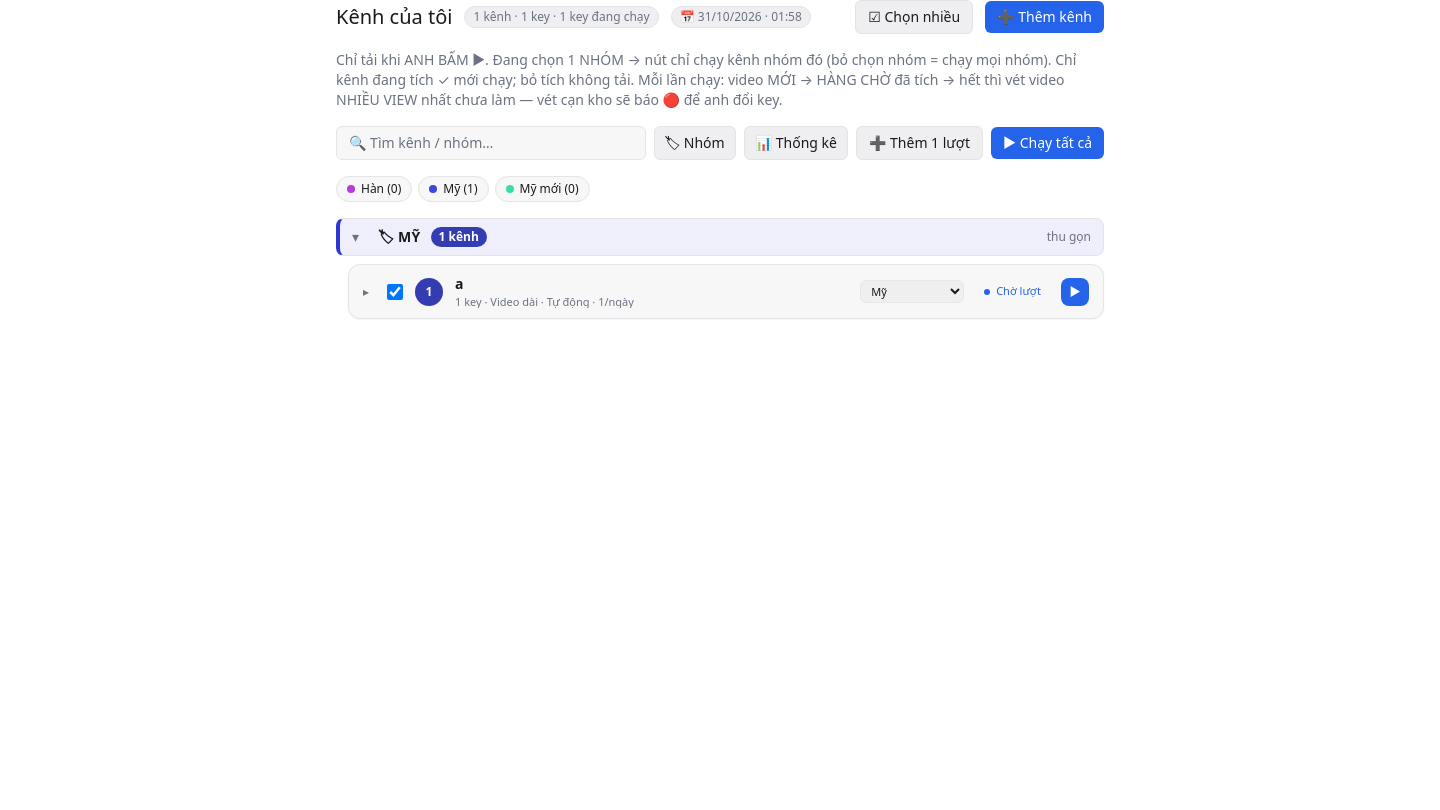
LỖI 1 — thêm kênh phải vào ĐÚNG nhóm đang xem › xem TẤT CẢ nhóm → để trống, buộc user chọn
Expected: the dropdown is shown, 860,280 -> 964,303
Click the button "➕ Thêm kênh": (1045, 17) 985,1 -> 1104,33
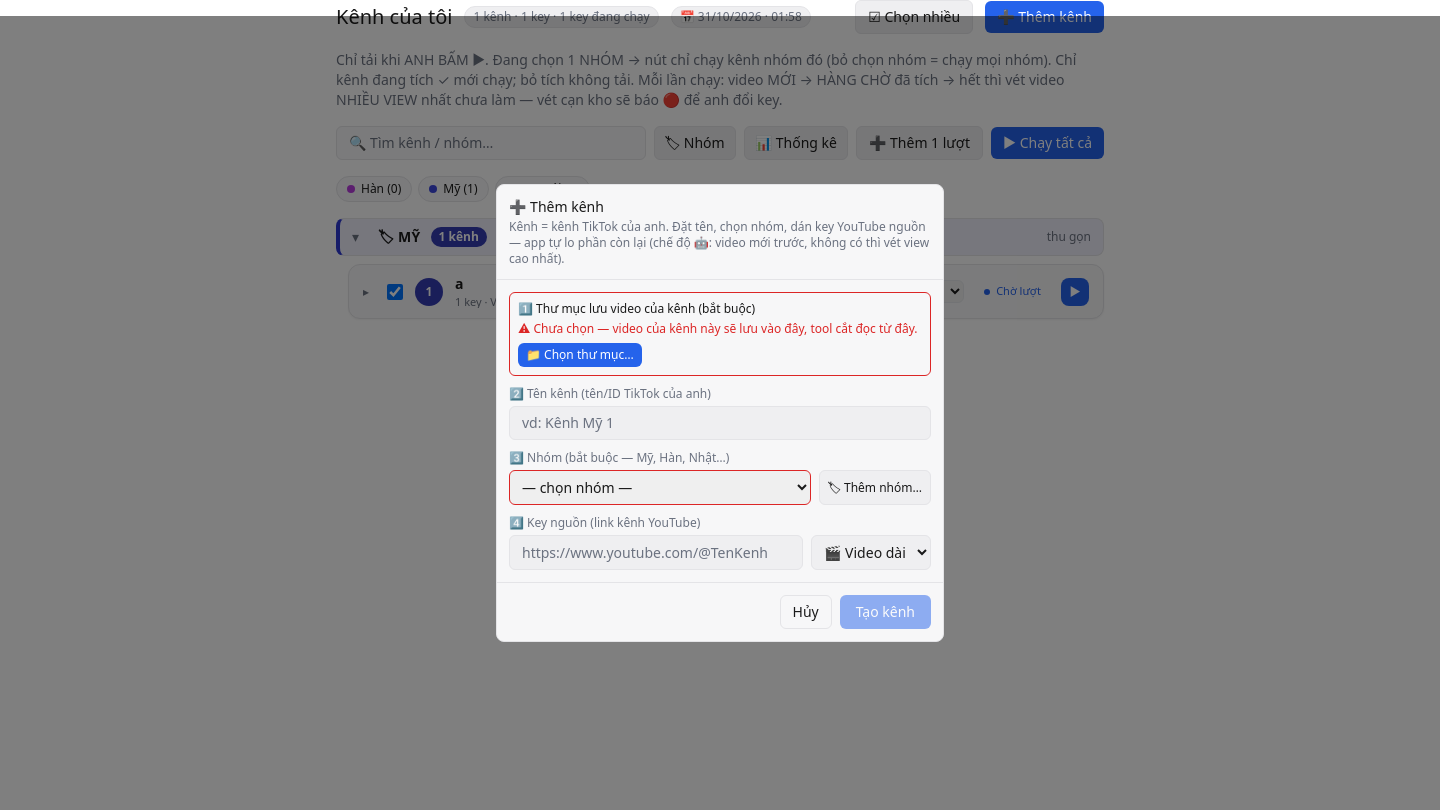
Expected: the 1st dropdown shows "— chọn nhóm —", 509,470 -> 810,505
